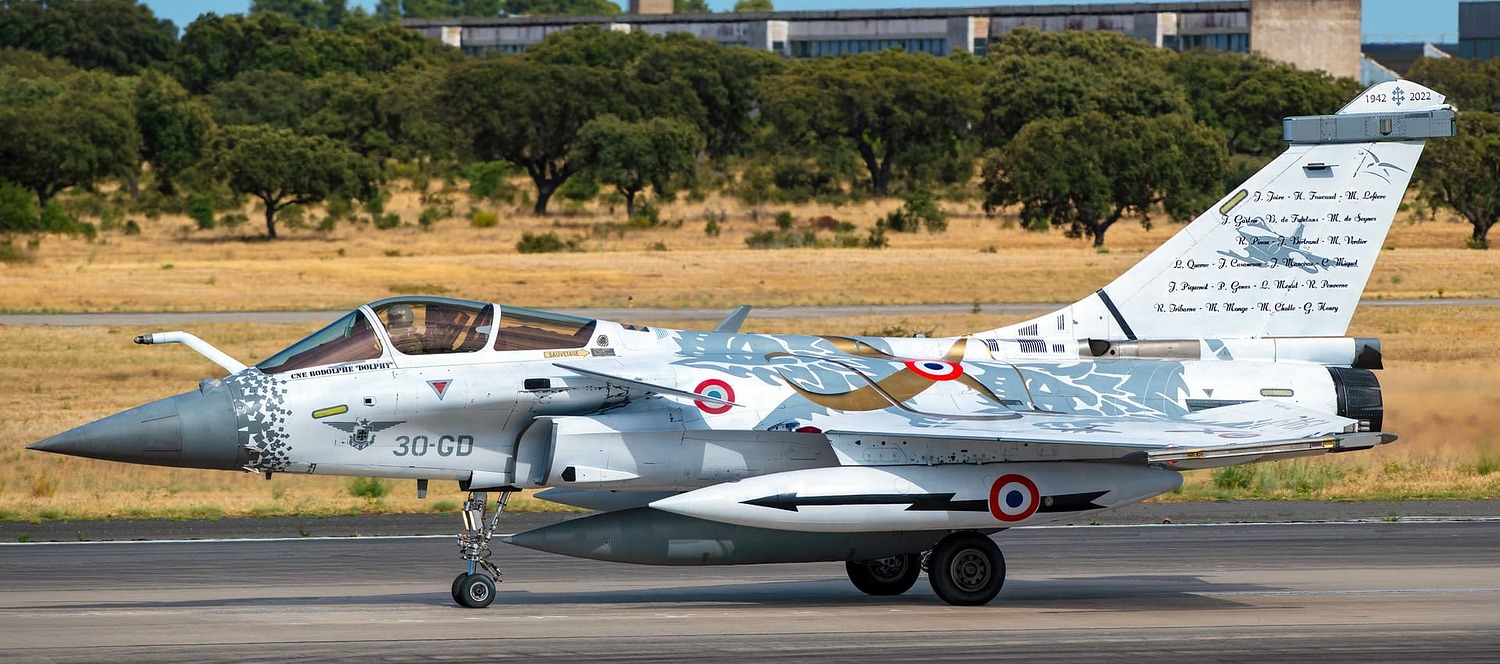Rafale: (0, 72, 1457, 629)
